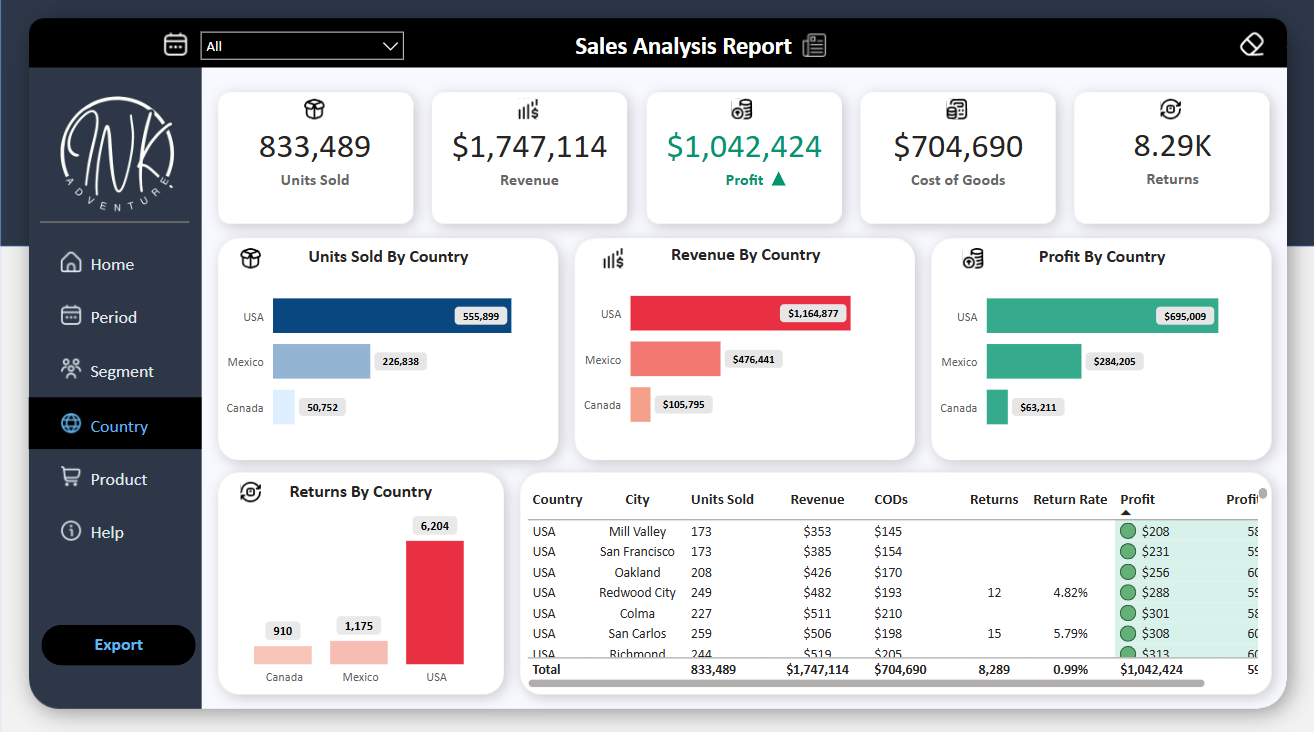

What the dashboard file says about the page in this screenshot:
{"tool":"powerbi","page":{"name":"Main page","canvas":[1280,720],"ordinal":0},"visuals":[{"type":"group","id":"g1","title":"Static grouping","box":[0,24.2,1236.4,474.7],"z":0},{"type":"card","title":"Unit Sold","fields":{"Values":["Measure.Quantity Sold"]},"box":[212.1,115.4,190.4,76.5],"z":0,"group":"g1"},{"type":"shape","box":[1142.4,242.9,88.2,24.6],"z":0,"group":"g4"},{"type":"actionButton","title":"Help","box":[28,495,168,50],"z":0,"group":"g2"},{"type":"card","title":"Revenue","fields":{"Values":["Measure.Total_revenue"]},"box":[420.2,115.9,191.8,76],"z":1000,"group":"g1"},{"type":"card","fields":{"Values":["Measure.YOY-profit_format"]},"box":[1139.5,235,86.8,41.9],"z":1000,"group":"g4"},{"type":"actionButton","title":"product","box":[28,442.8,167.8,49.8],"z":1000,"group":"g2"},{"type":"actionButton","title":"Export","box":[39.8,611.6,150.8,39.8],"z":1000},{"type":"card","title":"Profit","fields":{"Values":["Measure.Total-profit"]},"box":[629.7,115.1,189.2,76.8],"z":2000,"group":"g1"},{"type":"group","id":"g2","title":"Inactive buttons","box":[28,234,168,311],"z":2000},{"type":"actionButton","title":"Country","box":[28,390.7,167.8,49.8],"z":2000,"group":"g2"},{"type":"tableEx","title":"Period Table","fields":{"Values":["Calendar.month_year","Measure.Quantity Sold","Measure.Total_revenue","Measure.Total_cost","Measure.Total_returns","Measure.return_rate","Measure.Total-profit","Measure.Profit_margin"]},"box":[507,473,731,205.3],"z":2000,"group":"g4"},{"type":"card","title":"Total Returns","fields":{"Values":["Measure.Total_returns"]},"box":[1046,114,190.4,77.9],"z":3000,"group":"g1"},{"type":"group","id":"g3","title":"Active buttons","box":[28,234,169.1,311.6],"z":3000},{"type":"areaChart","title":"Profit By Period","fields":{"Category":["Calendar.Year","Calendar.Start of Month","Calendar.Start of Week","Calendar.Quarter"],"Y":["Measure.Total-profit"]},"box":[906.1,242.4,330.4,199.1],"z":3000,"group":"g4"},{"type":"actionButton","title":"Segment","box":[28,338.5,167.8,49.8],"z":3000,"group":"g2"},{"type":"slicer","fields":{"Values":["Calendar.Year"]},"box":[185.1,24.6,218.3,43.4],"z":4000},{"type":"card","title":"Total Cost","fields":{"Values":["Measure.Total_Cost"]},"box":[836.5,115.9,191.8,76],"z":4000,"group":"g1"},{"type":"actionButton","title":"Period","box":[28,286.4,167.8,49.8],"z":4000,"group":"g2"},{"type":"actionButton","title":"Active Period","box":[28,286.4,169.1,51.6],"z":4000,"group":"g3"},{"type":"areaChart","title":"Returns By Period","fields":{"Category":["Calendar.Year","Calendar.Start of Month","Calendar.Start of Week"],"Y":["Measure.Total_returns"]},"box":[212.6,467.1,276.2,208.2],"z":4000,"group":"g4"},{"type":"image","box":[0,24.2,230.4,260.3],"z":5000,"group":"g1"},{"type":"actionButton","box":[154.4,30.3,33.2,31.7],"z":5000},{"type":"actionButton","title":"Home","box":[28,234,168,50],"z":5000,"group":"g2"},{"type":"areaChart","title":"Revenue By Period","fields":{"Category":["Calendar.Year","Calendar.Start of Month","Calendar.Start of Week","Calendar.Quarter"],"Y":["Measure.Total_revenue"]},"box":[559.6,240,329.7,199.6],"z":5000,"group":"g4"},{"type":"shape","box":[38.6,203.9,146,31.4],"z":6000,"group":"g1"},{"type":"areaChart","title":"Units Sold By Period","fields":{"Category":["Calendar.Year","Calendar.Start of Month","Calendar.Start of Week","Calendar.Quarter"],"Y":["Measure.Quantity Sold"]},"box":[212.6,242.9,329.7,199.6],"z":6000,"group":"g4"},{"type":"actionButton","box":[291.4,93.8,32,32],"z":7000,"group":"g1"},{"type":"actionButton","box":[499.9,93.8,32,32],"z":8000,"group":"g1"},{"type":"actionButton","box":[708.4,93.8,32,32],"z":9000,"group":"g1"},{"type":"group","id":"g4","title":"Period View","box":[212.6,235,1025.4,443.3],"z":9000},{"type":"textbox","title":"report name","box":[554,27.4,246.7,40.4],"z":10000,"group":"g1"},{"type":"actionButton","box":[776.2,24.5,49.1,47.6],"z":11000},{"type":"actionButton","box":[916.9,93.8,32,32],"z":11000,"group":"g1"},{"type":"actionButton","box":[1201.6,22.9,48.3,47.1],"z":12000},{"type":"actionButton","box":[1125.4,93.8,32,32],"z":12000,"group":"g1"},{"type":"shape","box":[750.5,170.7,14.5,14.5],"z":13000,"group":"g1"},{"type":"actionButton","box":[229.9,240.1,33.3,31.8],"z":14000,"group":"g1"},{"type":"actionButton","box":[582,240.1,31.8,31.8],"z":15000,"group":"g1"},{"type":"actionButton","box":[932.7,240.1,31.8,31.8],"z":16000,"group":"g1"},{"type":"actionButton","box":[229.9,467.1,31.8,31.8],"z":17000,"group":"g1"}]}

Visuals, with their boxes in screenshot pixels (x1, y1, x2, y2), scaled from the page's 1280x720 canvas onto the 1314x732 screenshot:
"Static grouping" group: (0, 25, 1269, 507)
"Unit Sold" card: (218, 117, 413, 195)
shape: (1173, 247, 1263, 272)
"Help" actionButton: (29, 503, 201, 554)
"Revenue" card: (431, 118, 628, 195)
card - Measure.YOY-profit_format: (1170, 239, 1259, 282)
"product" actionButton: (29, 450, 201, 501)
"Export" actionButton: (41, 622, 196, 662)
"Profit" card: (646, 117, 841, 195)
"Inactive buttons" group: (29, 238, 201, 554)
"Country" actionButton: (29, 397, 201, 448)
"Period Table" tableEx: (520, 481, 1271, 690)
"Total Returns" card: (1074, 116, 1269, 195)
"Active buttons" group: (29, 238, 202, 555)
"Profit By Period" areaChart: (930, 246, 1269, 449)
"Segment" actionButton: (29, 344, 201, 395)
slicer - Calendar.Year: (190, 25, 414, 69)
"Total Cost" card: (859, 118, 1056, 195)
"Period" actionButton: (29, 291, 201, 342)
"Active Period" actionButton: (29, 291, 202, 344)
"Returns By Period" areaChart: (218, 475, 502, 687)
image: (0, 25, 237, 289)
actionButton: (159, 31, 193, 63)
"Home" actionButton: (29, 238, 201, 289)
"Revenue By Period" areaChart: (574, 244, 913, 447)
shape: (40, 207, 190, 239)
"Units Sold By Period" areaChart: (218, 247, 557, 450)
actionButton: (299, 95, 332, 128)
actionButton: (513, 95, 546, 128)
actionButton: (727, 95, 760, 128)
"Period View" group: (218, 239, 1271, 690)
"report name" textbox: (569, 28, 822, 69)
actionButton: (797, 25, 847, 73)
actionButton: (941, 95, 974, 128)
actionButton: (1234, 23, 1283, 71)
actionButton: (1155, 95, 1188, 128)
shape: (770, 174, 785, 188)
actionButton: (236, 244, 270, 276)
actionButton: (597, 244, 630, 276)
actionButton: (957, 244, 990, 276)
actionButton: (236, 475, 269, 507)
